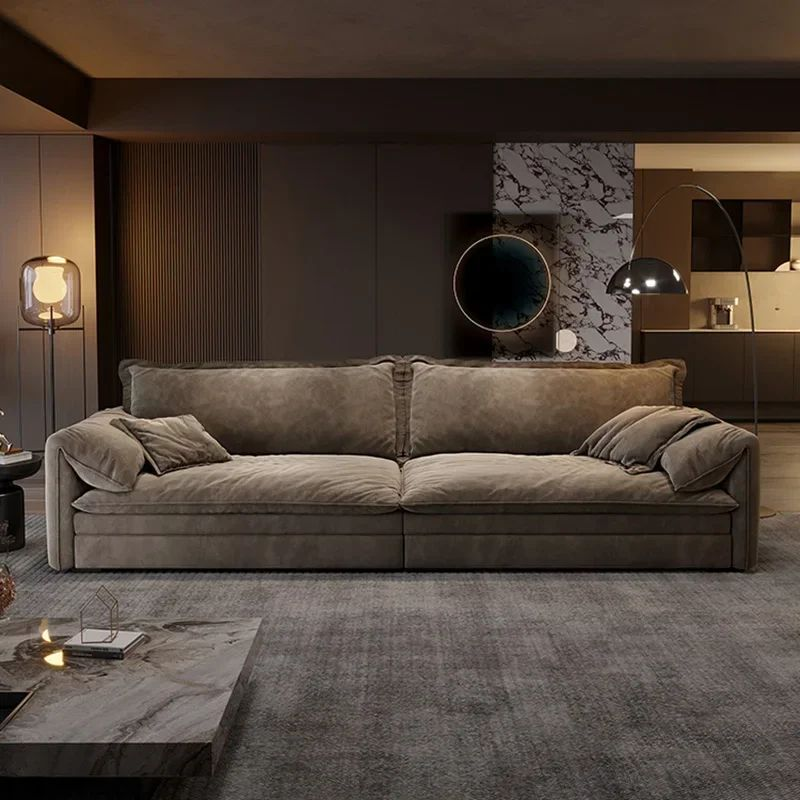3seatersofa: (46, 356, 757, 569)
backrest: (120, 357, 682, 458)
base: (73, 512, 738, 568)
leftarmrest: (722, 424, 758, 570)
pillow: (574, 406, 745, 490), (64, 414, 231, 491)
rightarmrest: (45, 430, 86, 569)
seat: (76, 453, 736, 514)
